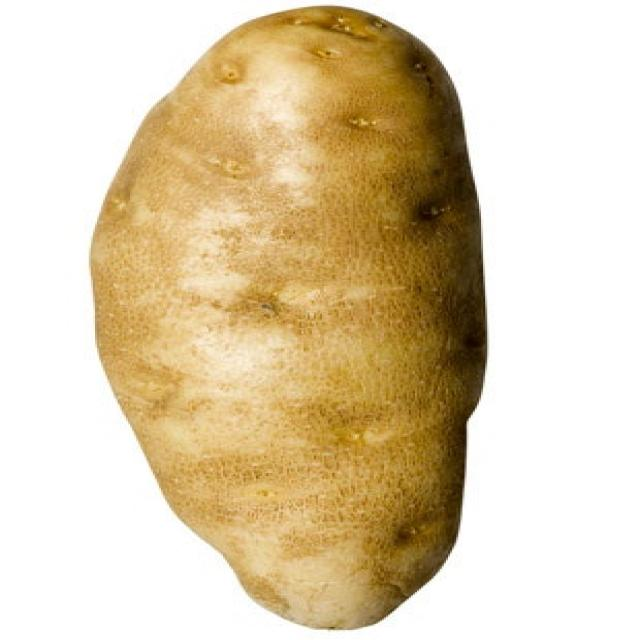potato: (91, 8, 487, 628)
